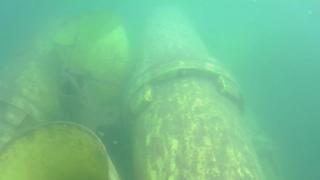pipe: (123, 12, 265, 180), (51, 13, 133, 116), (1, 121, 121, 180), (1, 20, 54, 146)
